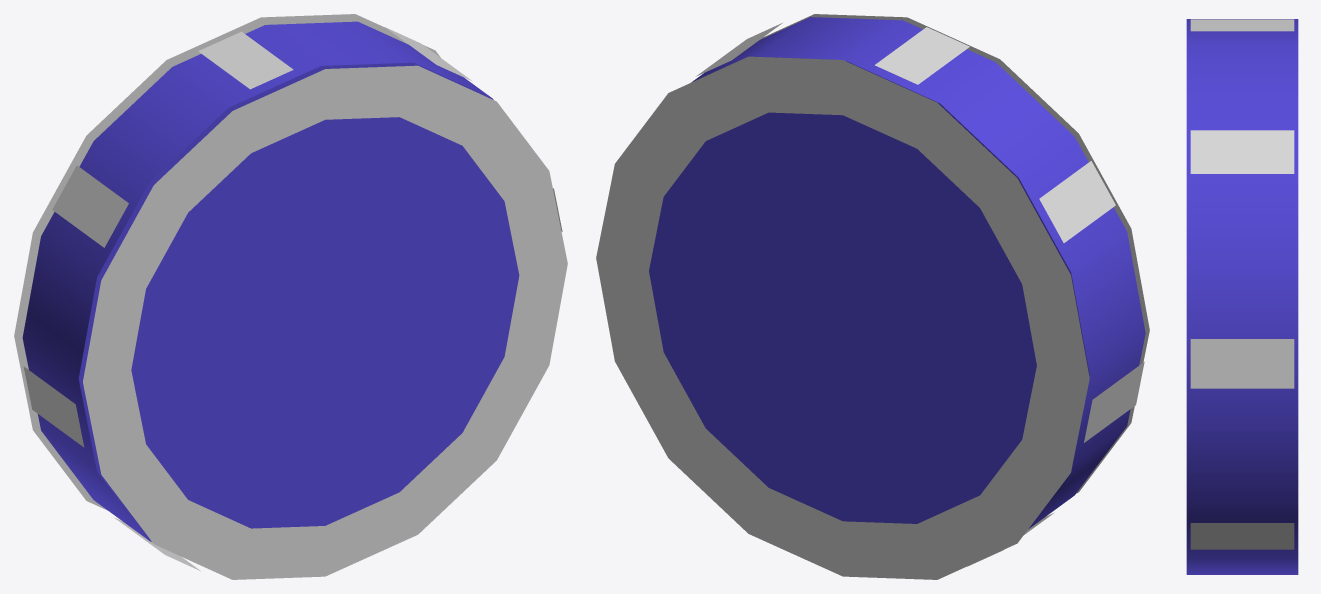
The model's file is coin.fbx.
3 views of the same model, side by side, from view 1: azimuth 30°, elevation 25°; view 2: azimuth 150°, elevation 25°; view 3: azimuth 270°, elevation 25° (orthographic).
Parts seen in each view (by area): view 1: Circle.001; view 2: Circle.001; view 3: Circle.001.
Boxes of the visible parts, x1,y1,x2,y2 form: Circle.001: (14, 14, 567, 579); Circle.001: (596, 14, 1149, 579); Circle.001: (1186, 19, 1298, 574).
Size of the model in its own units: 20.35 by 20.35 by 4.6.
